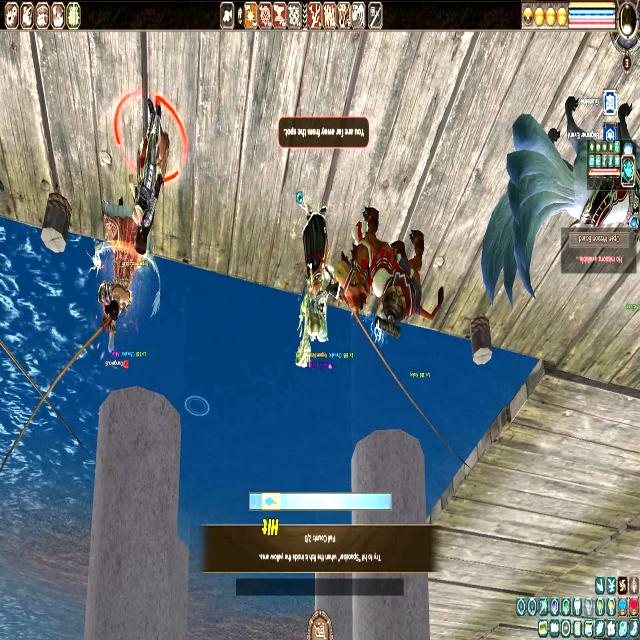fishes: (263, 493, 279, 509)
